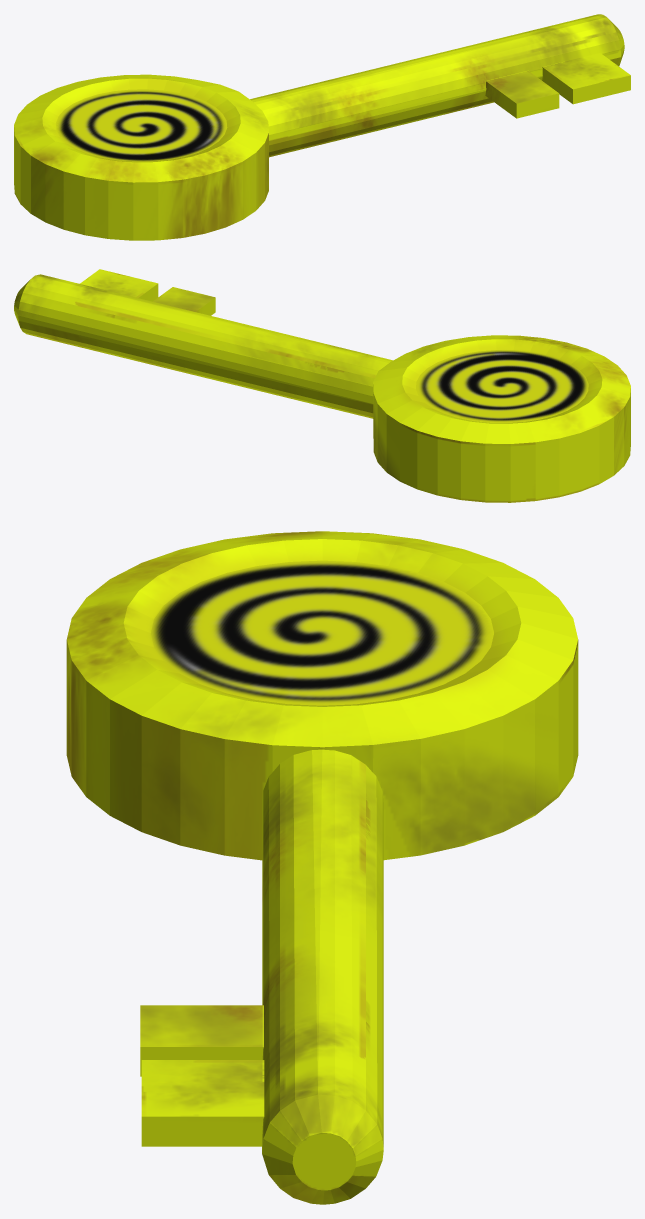
File: key1.obj
The picture shows the model from 3 angles, top to bottom: view 1: azimuth 30°, elevation 25°; view 2: azimuth 150°, elevation 25°; view 3: azimuth 270°, elevation 25°; orthographic projection. The views are drawn at different scales.
Parts seen in each view (by area): view 1: Cylinder.001; view 2: Cylinder.001; view 3: Cylinder.001.
Boxes of the visible parts, left/top/right/bottom form: Cylinder.001: left=14, top=14, right=630, bottom=240; Cylinder.001: left=14, top=269, right=630, bottom=502; Cylinder.001: left=66, top=531, right=578, bottom=1204.
Bounding box in the file's own units: 5.3 × 0.5739 × 2.
1 material, 1 textured.
